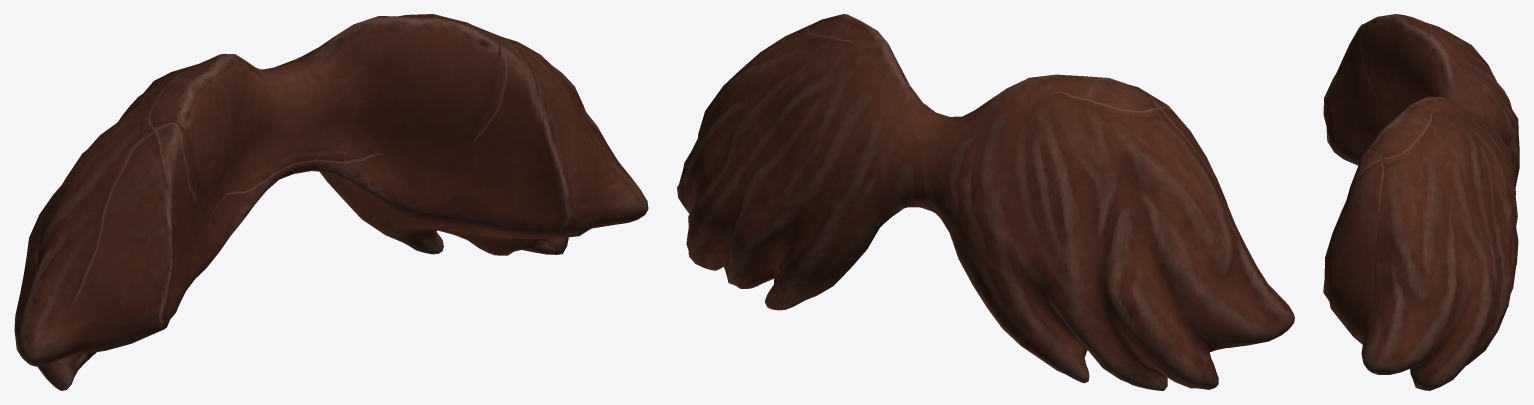
The model's file is fullMustache.gltf.
The picture shows the model from 3 angles, left to right: view 1: azimuth 30°, elevation 25°; view 2: azimuth 150°, elevation 25°; view 3: azimuth 270°, elevation 25°; orthographic projection. The views are drawn at different scales.
Parts seen in each view (by area): view 1: fullMustache; view 2: fullMustache; view 3: fullMustache.
Part boxes in pixels (box(x1,y1,x2,y2)): fullMustache: box(14, 14, 648, 390); fullMustache: box(677, 14, 1294, 390); fullMustache: box(1323, 14, 1519, 390).
Bounding box in the file's own units: 1.35 × 0.5887 × 0.4525.
Materials: 1 (1 with a texture image).
